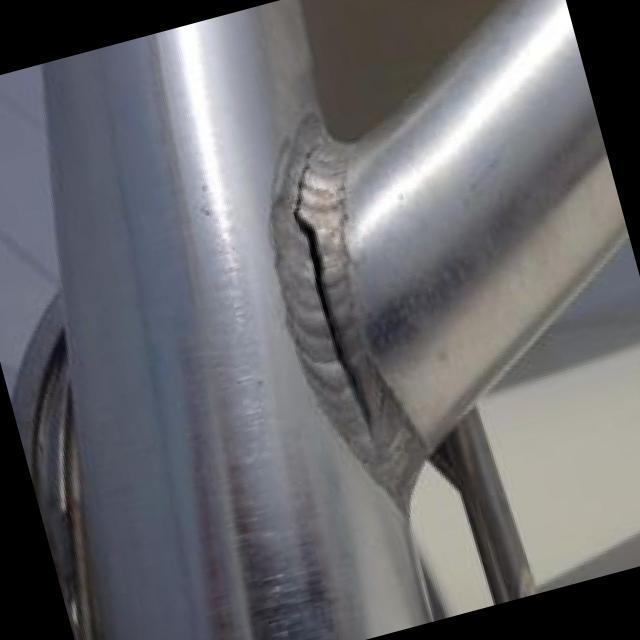defect: (290, 138, 376, 441)
